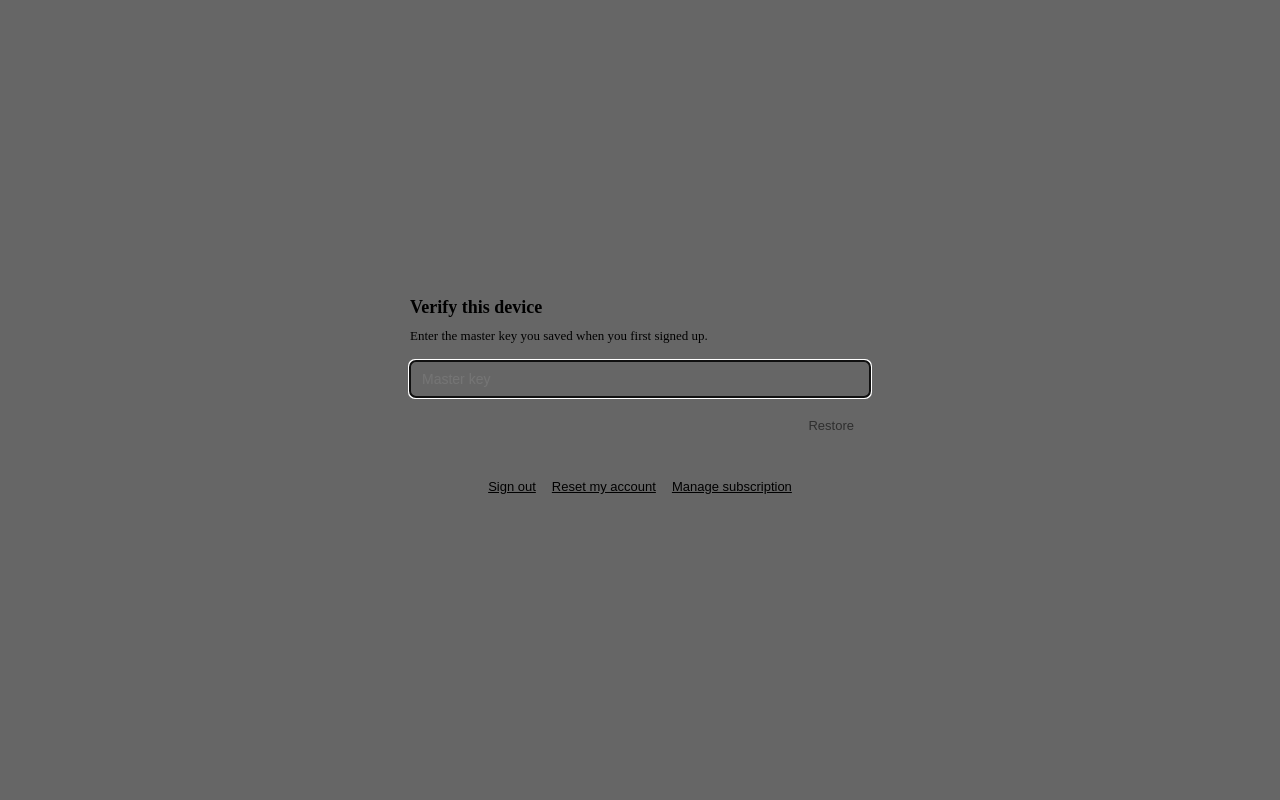
VerifyDeviceScreen › nuclear reset (cannot verify at all) › is offered as an escape from the verify gate
Click the button "Reset my account" at [604, 487], box [544, 470, 664, 503]
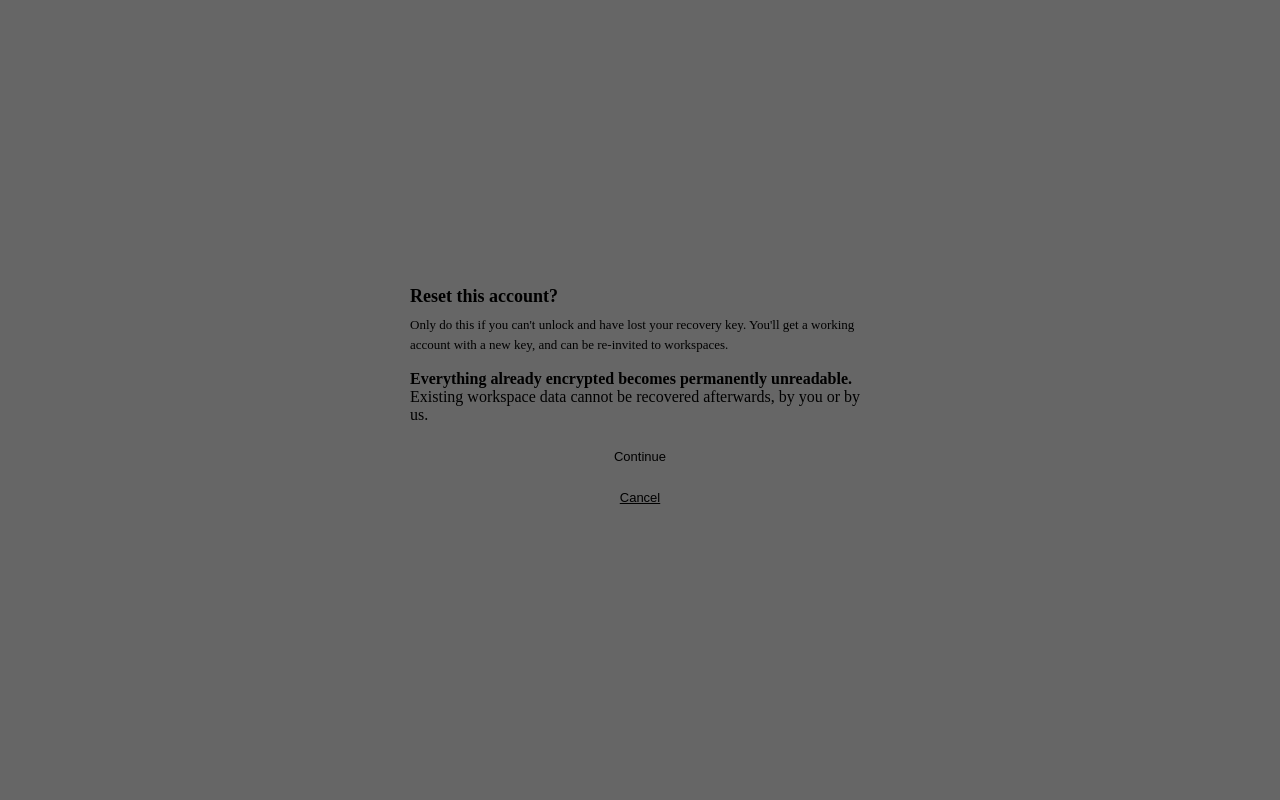
Expected: the heading "Reset this account?" is shown, [410, 286, 558, 306]
